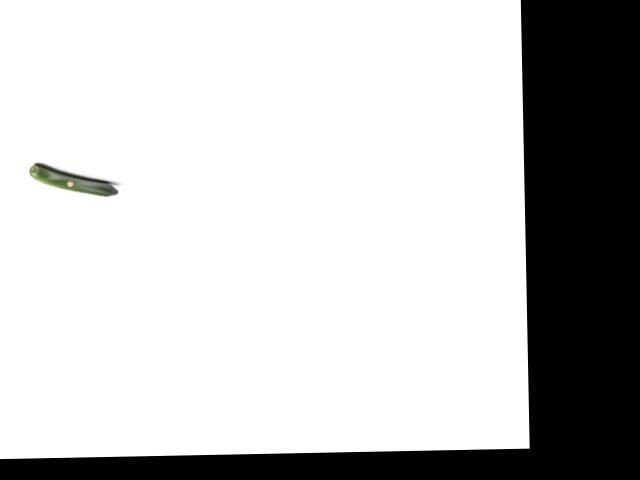cucumber: (28, 162, 117, 197)
